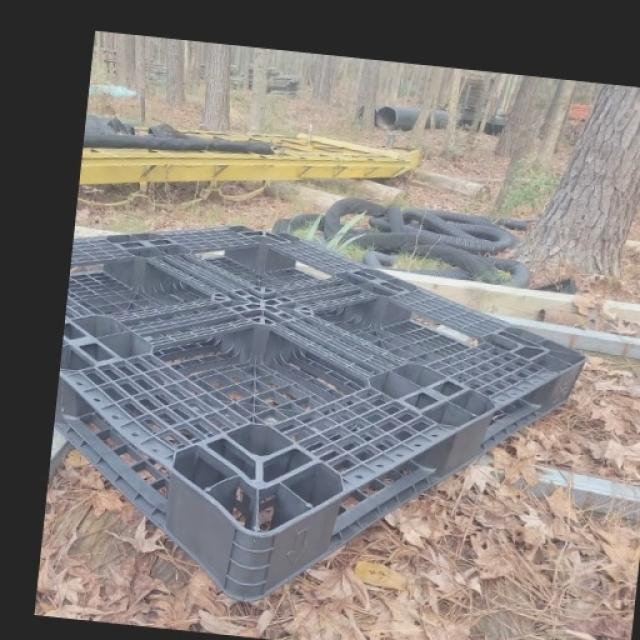non-igps: (50, 220, 593, 611)
